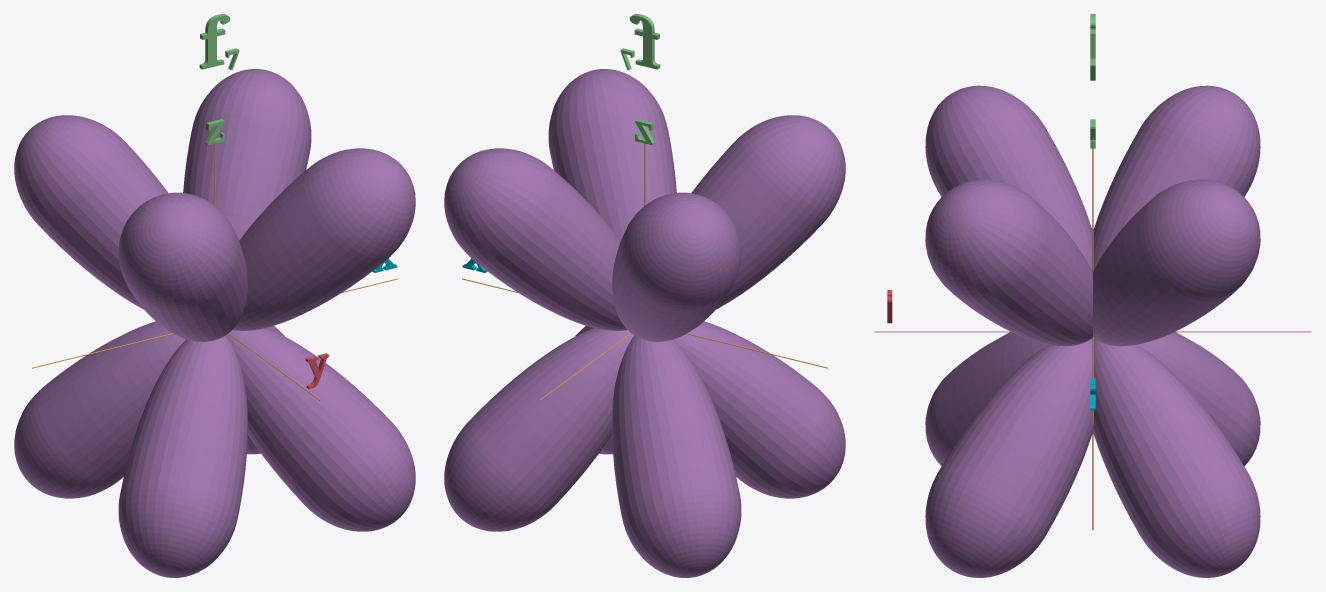
Rendered from f7 orbital.glb.
3 renders of one model, left to right at view 1: azimuth 30°, elevation 25°; view 2: azimuth 150°, elevation 25°; view 3: azimuth 270°, elevation 25°, orthographic. The views are drawn at different scales.
Visible parts, largest first — view 1: Mesh_Mesh_head_geo.001_lambert2SG.001; view 2: Mesh_Mesh_head_geo.001_lambert2SG.001; view 3: Mesh_Mesh_head_geo.001_lambert2SG.001.
Part boxes in pixels (left/top/right/bottom): Mesh_Mesh_head_geo.001_lambert2SG.001: left=14, top=14, right=415, bottom=577; Mesh_Mesh_head_geo.001_lambert2SG.001: left=444, top=14, right=845, bottom=577; Mesh_Mesh_head_geo.001_lambert2SG.001: left=874, top=14, right=1311, bottom=577.
Size of the model in its own units: 84 by 109 by 84.
